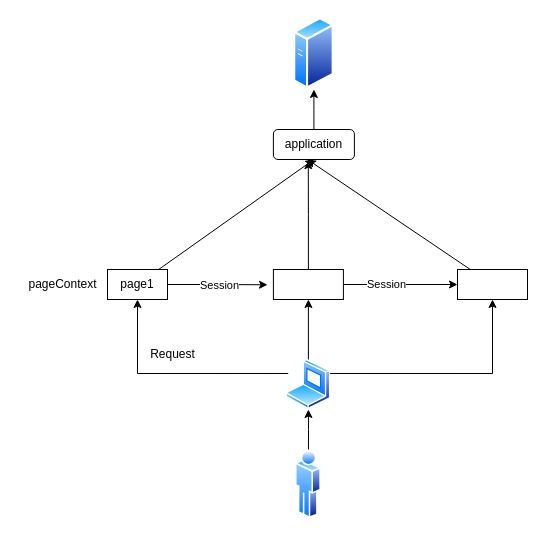
Some shapes in this 545 by 537 pixel diagram are drawn without their labels. Here are the shapes that lost their labels. From the top down, the centre of each, then its label:
At (307,284): "page2".
At (492,284): "page3".
